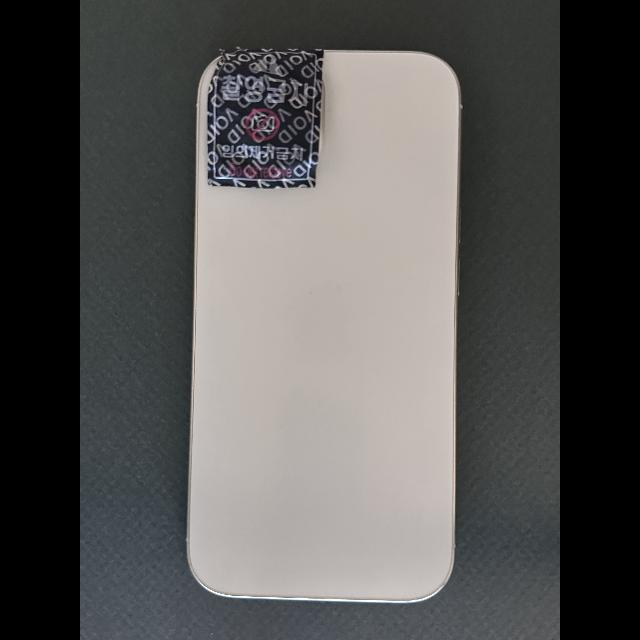phone: (188, 49, 461, 602)
sticker: (207, 48, 324, 189)
